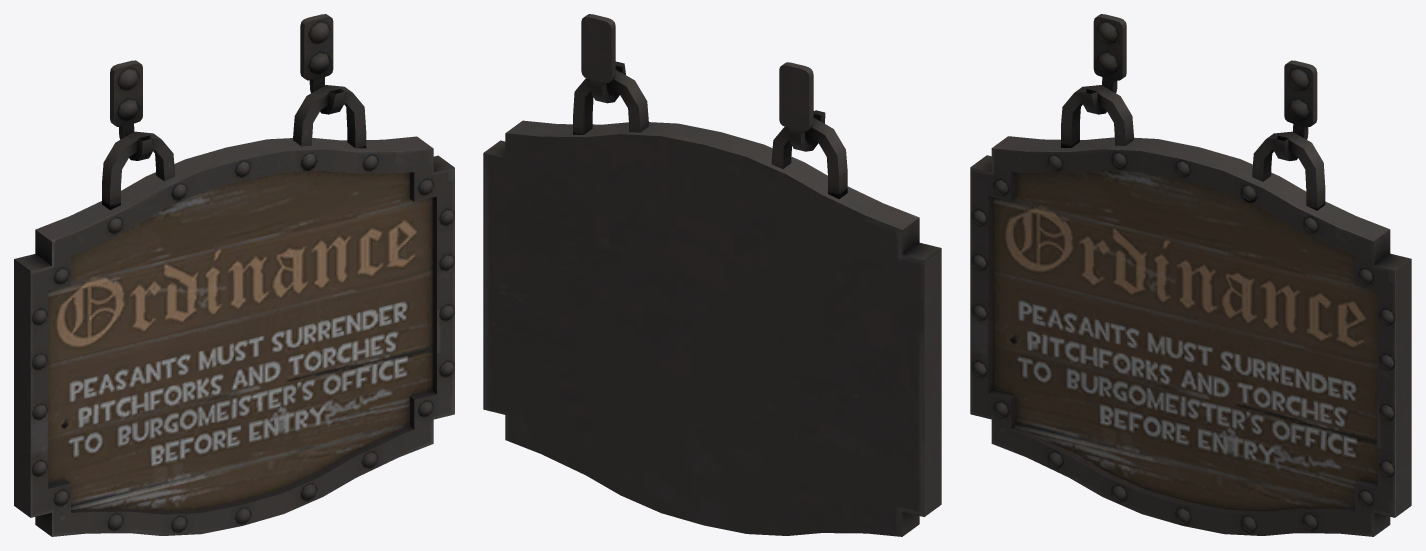
File: med_sign005.glb
3 renders of one model, left to right at view 1: azimuth 30°, elevation 25°; view 2: azimuth 150°, elevation 25°; view 3: azimuth 330°, elevation 25°, orthographic. The views are drawn at different scales.
Parts seen in each view (by area): view 1: med_sign005; view 2: med_sign005; view 3: med_sign005.
Boxes of the visible parts, x1,y1,x2,y2 form: med_sign005: (14, 14, 454, 536); med_sign005: (483, 14, 941, 536); med_sign005: (970, 14, 1411, 536).
Size of the model in its own units: 1.4 by 1.48 by 0.1501.
Materials: 1 (1 with a texture image).
